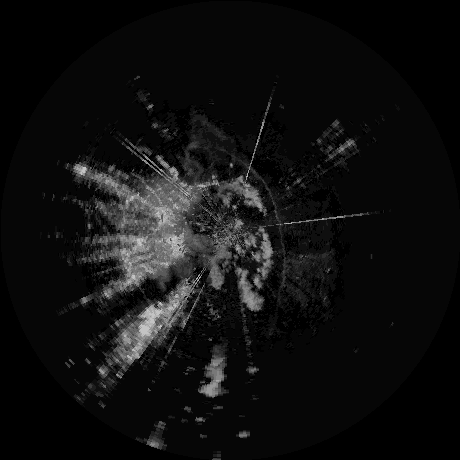frontgust: (211, 147, 290, 285)
